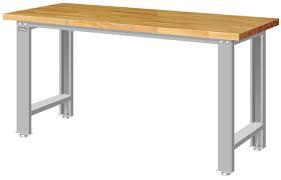desk: (4, 4, 270, 168)
